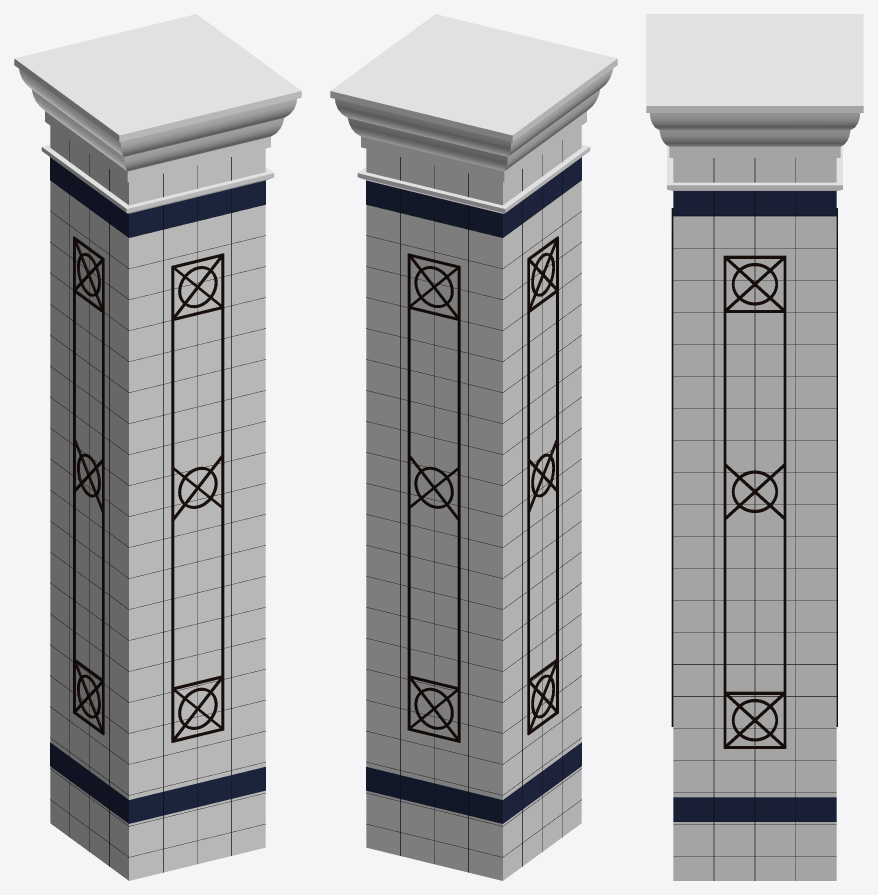
File: squarecolumn.FBX
3 renders of one model, left to right at view 1: azimuth 30°, elevation 25°; view 2: azimuth 150°, elevation 25°; view 3: azimuth 270°, elevation 25°, orthographic. The views are drawn at different scales.
Parts seen in each view (by area): view 1: Box12; view 2: Box12; view 3: Box12.
Part boxes in pixels (<box>): Box12: <box>14,14,301,880</box>; Box12: <box>330,14,617,880</box>; Box12: <box>646,14,863,880</box>.
Bounding box in the file's own units: 80.05 × 319 × 80.05.
